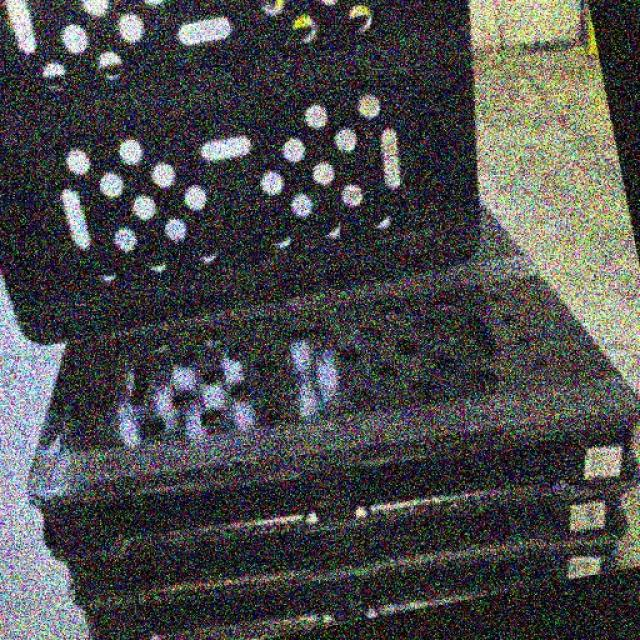igps: (0, 199, 640, 640), (0, 0, 492, 349)
